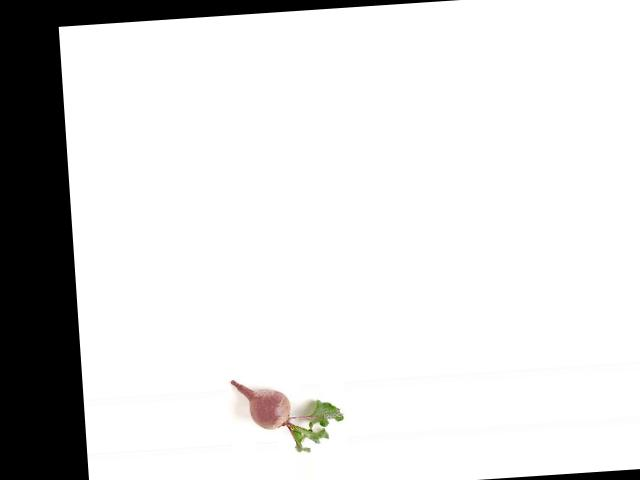beet: (231, 372, 346, 457)
